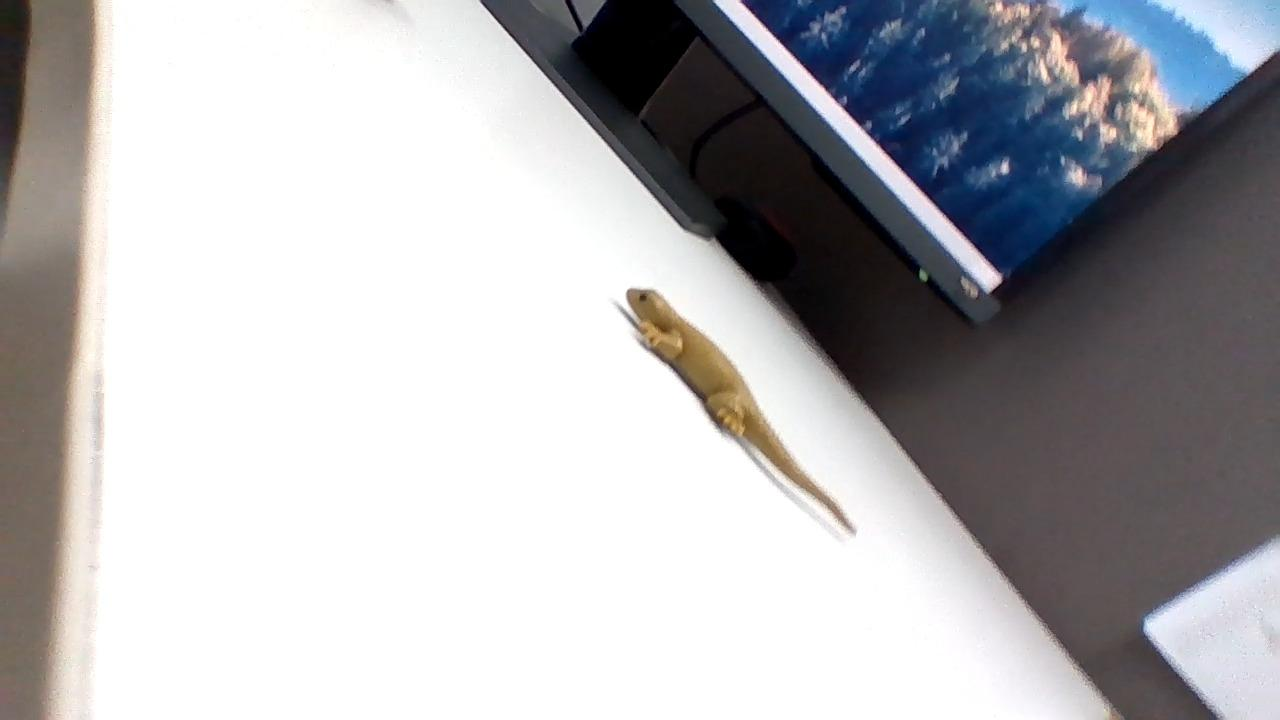lizard: (623, 275, 853, 532)
